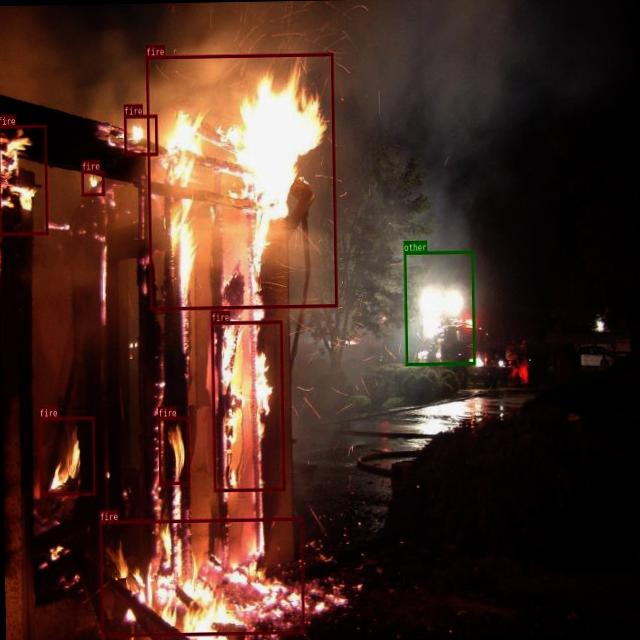fire: (146, 52, 337, 309), (99, 516, 304, 636), (210, 319, 284, 492), (0, 123, 47, 234), (39, 416, 95, 495), (157, 416, 189, 484), (122, 114, 156, 156), (80, 170, 104, 194)
